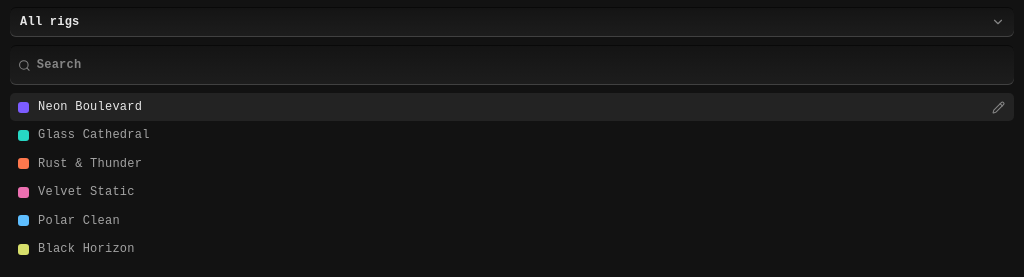
Test: rename the loaded rig in the RIG room › rig list: only the loaded row turns into a name field
The width and height of the screenshot is (1024, 277).
Double-click the button "Polar Clean": (79, 221) x1=10 y1=207 x2=1014 y2=235
Double-click the button "Neon Boulevard": (90, 107) x1=10 y1=93 x2=1014 y2=121
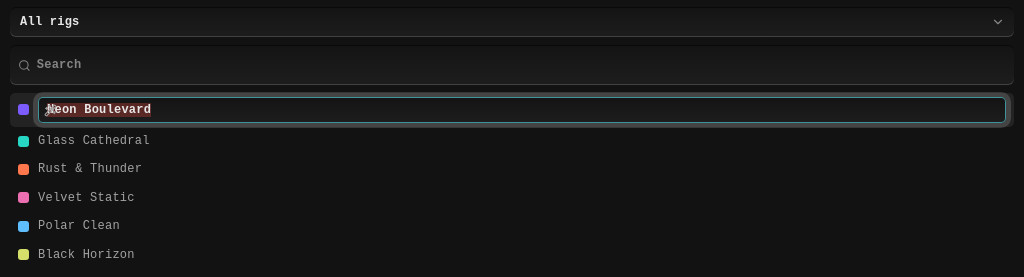
Replace the text in the field named "Rig name" with "Neon Avenue": (522, 110) x1=38 y1=97 x2=1006 y2=123
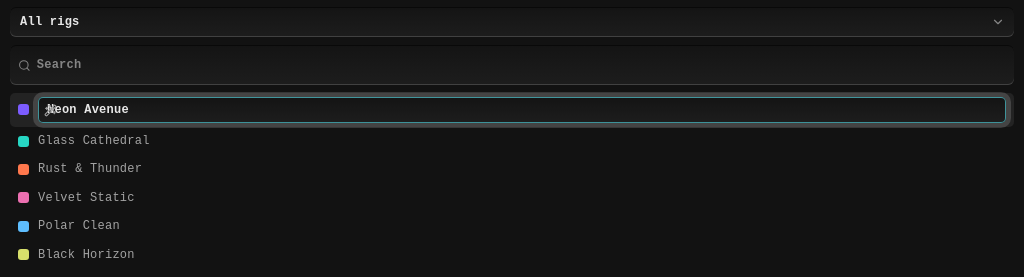
Press Enter in the field named "Rig name", box x1=38 y1=97 x2=1006 y2=123
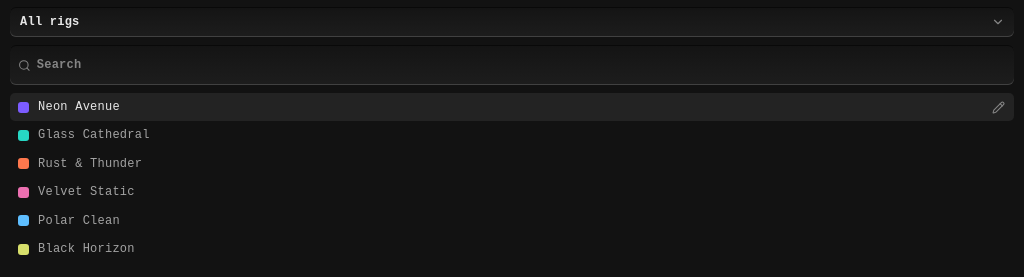
Now the text "Neon Avenue" is shown, box x1=38 y1=100 x2=120 y2=114
